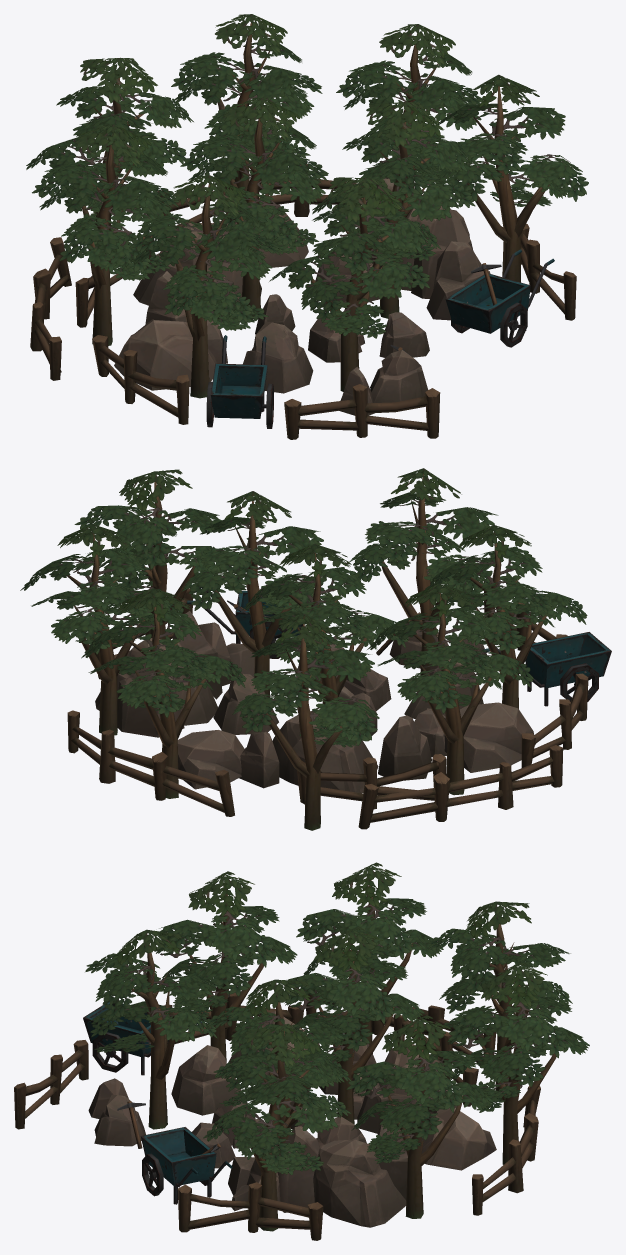
Rendered from WMClanResource1.FBX.
3 renders of one model, top to bottom at view 1: azimuth 30°, elevation 25°; view 2: azimuth 150°, elevation 25°; view 3: azimuth 270°, elevation 25°, orthographic. The views are drawn at different scales.
Visible parts, largest first — view 1: WMClanResource1; view 2: WMClanResource1; view 3: WMClanResource1.
Boxes of the visible parts, <box> form: WMClanResource1: <box>26,14,588,439</box>; WMClanResource1: <box>20,468,611,830</box>; WMClanResource1: <box>14,862,589,1240</box>.
Bounding box in the file's own units: 1.29 × 0.4987 × 1.34.
1 material, 1 textured.
